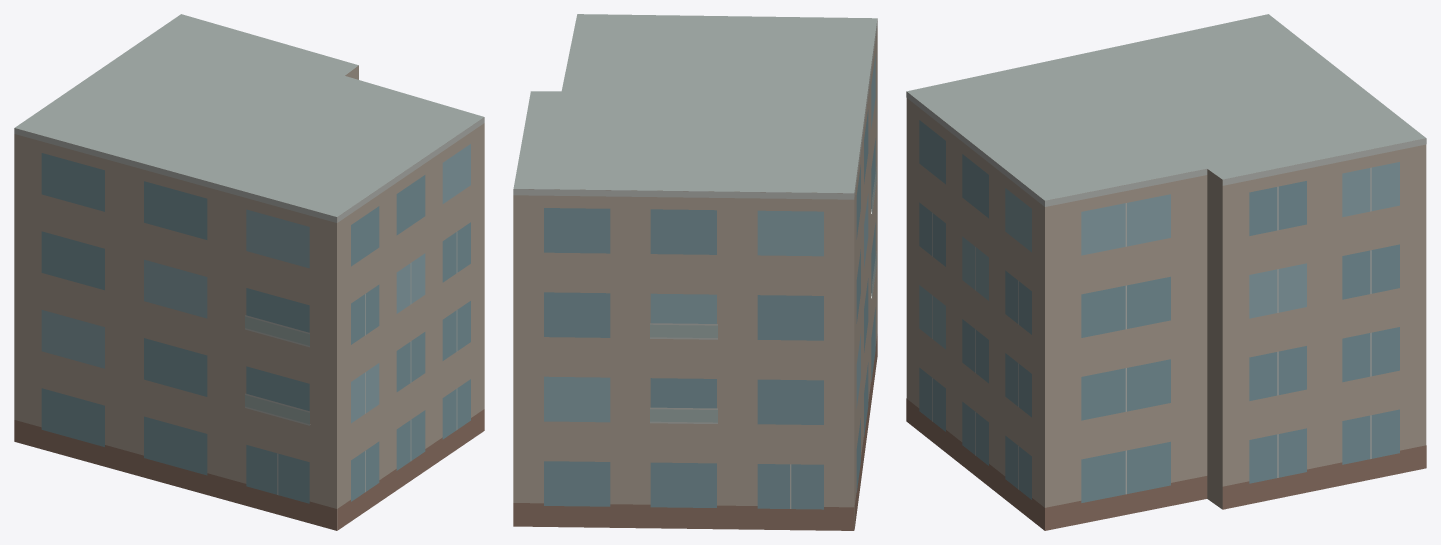
Rendered from survey-upis-32882551.glb.
The picture shows the model from 3 angles, left to right: view 1: azimuth 30°, elevation 25°; view 2: azimuth 150°, elevation 25°; view 3: azimuth 270°, elevation 25°; orthographic projection. The views are drawn at different scales.
Parts seen in each view (by area): view 1: survey-upis-32882551.tmp; view 2: survey-upis-32882551.tmp; view 3: survey-upis-32882551.tmp.
Boxes of the visible parts, <box> form: survey-upis-32882551.tmp: <box>14,14,484,530</box>; survey-upis-32882551.tmp: <box>513,14,877,530</box>; survey-upis-32882551.tmp: <box>906,14,1426,530</box>.
Size of the model in its own units: 15.54 by 12.8 by 18.28.
